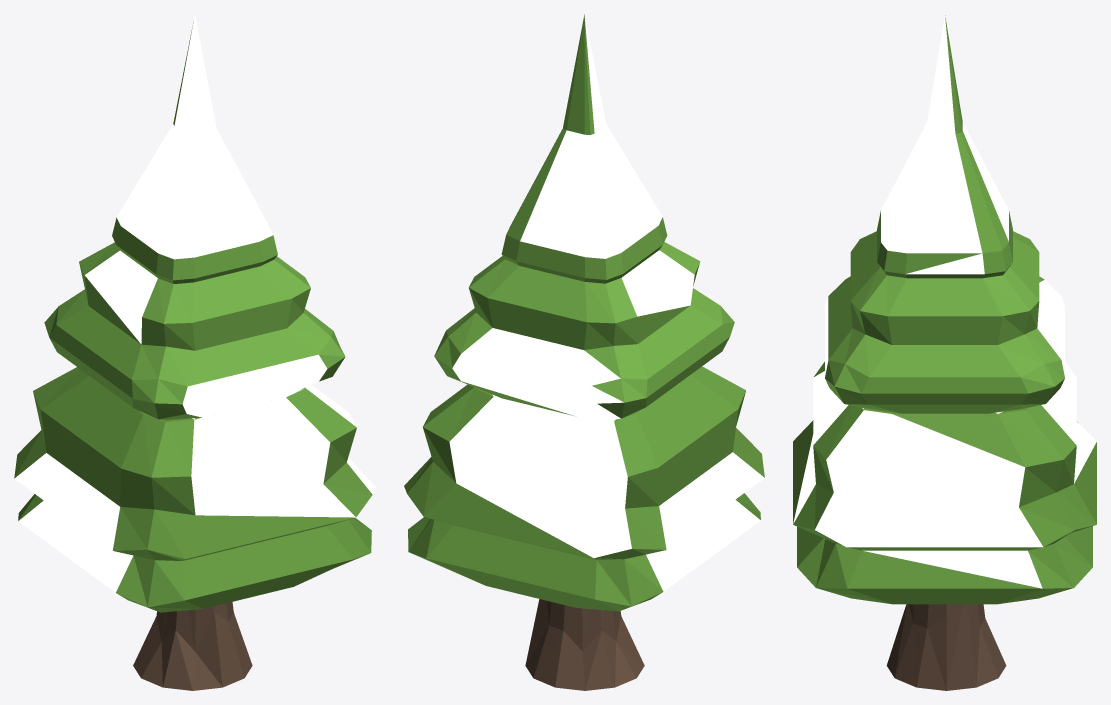
File: tree_pine_snow_1.glb
3 views of the same model, side by side, from view 1: azimuth 30°, elevation 25°; view 2: azimuth 150°, elevation 25°; view 3: azimuth 270°, elevation 25° (orthographic).
Parts seen in each view (by area): view 1: tree_0035.001; view 2: tree_0035.001; view 3: tree_0035.001.
Boxes of the visible parts, x1,y1,x2,y2 form: tree_0035.001: (14, 15, 375, 690); tree_0035.001: (404, 14, 764, 690); tree_0035.001: (793, 15, 1096, 690).
Size of the model in its own units: 1.82 by 4.32 by 1.82.
